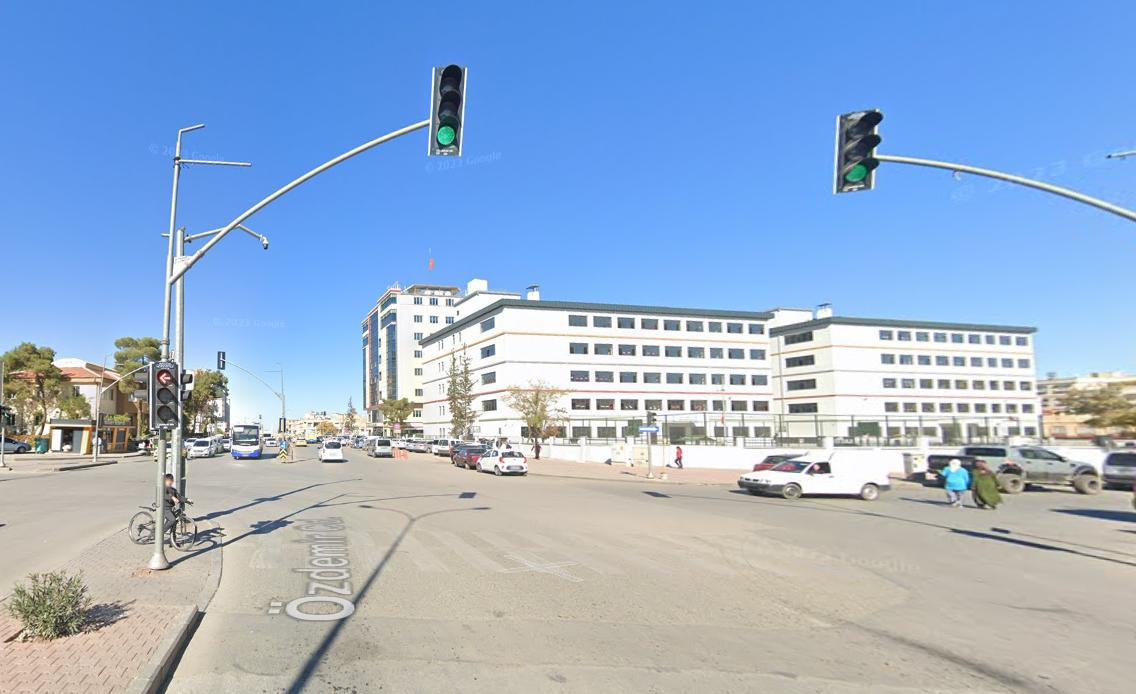greenlight: (832, 103, 887, 199), (425, 60, 468, 161)
